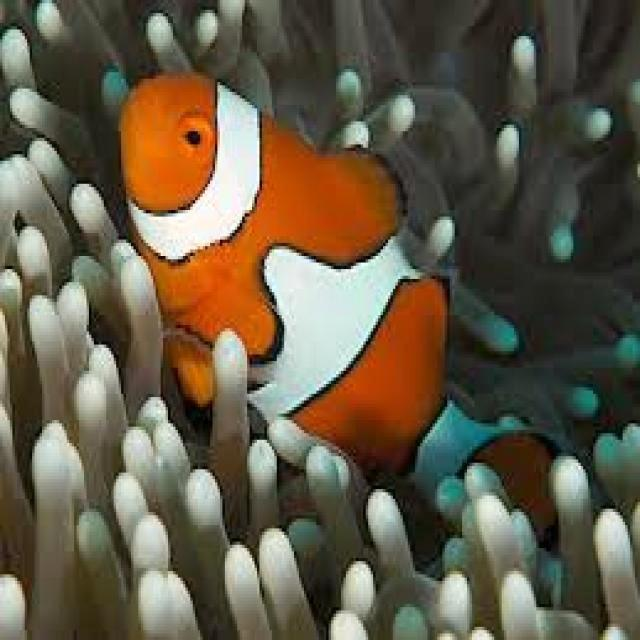ClownFish: (118, 71, 582, 568)
